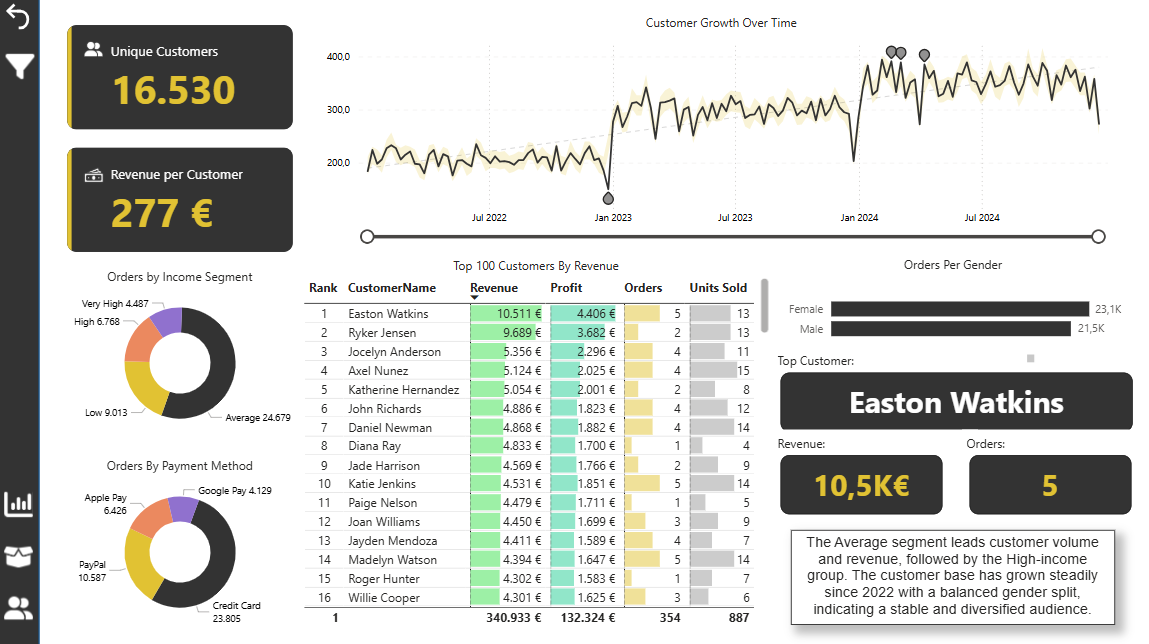

The dashboard page shown, as its layout file describes it:
{"tool":"powerbi","page":{"name":"Customer Analysis","canvas":[1280,720],"ordinal":2},"visuals":[{"type":"shape","box":[0,0,45,720],"z":0},{"type":"cardVisual","fields":{"Data":["DAX Measures.Total Customers","DAX Measures.Average Revenue per Customer"]},"box":[57.5,11.2,285,286.2],"z":1000},{"type":"donutChart","title":"Orders by Income Segment","fields":{"Category":["Dim_Customer.Income Level"],"Y":["DAX Measures.Total Orders"]},"box":[67.5,297.5,265,193.8],"z":2000},{"type":"donutChart","title":"Orders By Payment Method","fields":{"Category":["Dim_Customer.PreferredPaymentMethod"],"Y":["DAX Measures.Total Orders"]},"box":[67.5,507.5,265,193.8],"z":3000},{"type":"lineChart","title":"Customer Growth Over Time","fields":{"Y":["DAX Measures.Total Customers"],"Category":["Dim_Calendar.Start of Week"]},"box":[358.6,17.1,888.6,258.6],"z":4000},{"type":"textbox","box":[864.9,381.4,290,27.5],"z":5000},{"type":"barChart","title":"Orders Per Gender","fields":{"Category":["Dim_Customer.Gender"],"Y":["DAX Measures.Total Orders"]},"box":[868.3,285,383.3,110],"z":6000},{"type":"tableEx","title":"Top 100 Customers By Revenue","fields":{"Values":["DAX Measures.Customer Rank(revenue)","Dim_Customer.CustomerName","DAX Measures.Total Revenue","DAX Measures.Total Profit","DAX Measures.Total Orders","DAX Measures.Quantity Sold"]},"box":[333.6,286.8,526.8,414.9],"z":7000},{"type":"textbox","box":[860,386.8,227.1,31.4],"z":8000},{"type":"card","fields":{"Values":["Min(Dim_Customer.CustomerName)"]},"box":[868.7,415.8,391.1,65.9],"z":9000},{"type":"textbox","box":[860.8,478.1,227.1,31.4],"z":10000},{"type":"card","fields":{"Values":["DAX Measures.Total Revenue"]},"box":[868.1,506.9,180,65.9],"z":11000},{"type":"textbox","box":[1069.5,477.9,188.6,30],"z":12000},{"type":"card","fields":{"Values":["DAX Measures.Total Orders"]},"box":[1078.2,506.9,179.8,65.8],"z":13000},{"type":"actionButton","box":[1.4,0,44.3,38.6],"z":14000},{"type":"actionButton","box":[1.4,657.1,45.7,40],"z":15000},{"type":"actionButton","box":[1.4,600,44.3,40],"z":16000},{"type":"actionButton","box":[1.4,541.4,45.7,40],"z":17000},{"type":"actionButton","box":[2.9,55,44.3,40],"z":18000},{"type":"textbox","box":[880,590,360,105],"z":23000}]}

Visuals, with their boxes on the page's 1280x720 design canvas (x1, y1, x2, y2). These are canvas units, not pixel positions in the 1149x644 screenshot, which may show the page scaled, cropped or inside an application window:
shape: bbox(0, 0, 45, 720)
cardVisual - DAX Measures.Total Customers x DAX Measures.Average Revenue per Customer: bbox(58, 11, 342, 297)
"Orders by Income Segment" donutChart: bbox(68, 298, 332, 491)
"Orders By Payment Method" donutChart: bbox(68, 508, 332, 701)
"Customer Growth Over Time" lineChart: bbox(359, 17, 1247, 276)
textbox: bbox(865, 381, 1155, 409)
"Orders Per Gender" barChart: bbox(868, 285, 1252, 395)
"Top 100 Customers By Revenue" tableEx: bbox(334, 287, 860, 702)
textbox: bbox(860, 387, 1087, 418)
card - Min(Dim_Customer.CustomerName): bbox(869, 416, 1260, 482)
textbox: bbox(861, 478, 1088, 510)
card - DAX Measures.Total Revenue: bbox(868, 507, 1048, 573)
textbox: bbox(1070, 478, 1258, 508)
card - DAX Measures.Total Orders: bbox(1078, 507, 1258, 573)
actionButton: bbox(1, 0, 46, 39)
actionButton: bbox(1, 657, 47, 697)
actionButton: bbox(1, 600, 46, 640)
actionButton: bbox(1, 541, 47, 581)
actionButton: bbox(3, 55, 47, 95)
textbox: bbox(880, 590, 1240, 695)
